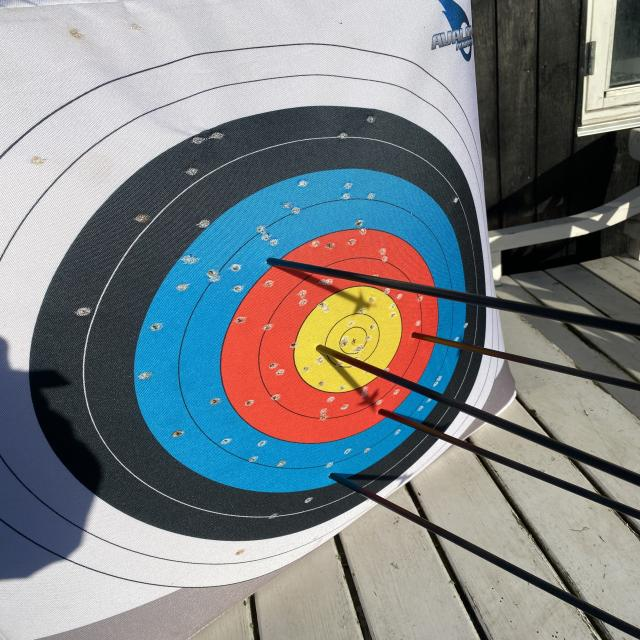Arrow_Blue: (256, 250, 292, 276), (318, 464, 352, 484)
Arrow_Red: (404, 318, 428, 349), (376, 396, 394, 421)
Arrow_Yellow: (296, 335, 334, 360)
